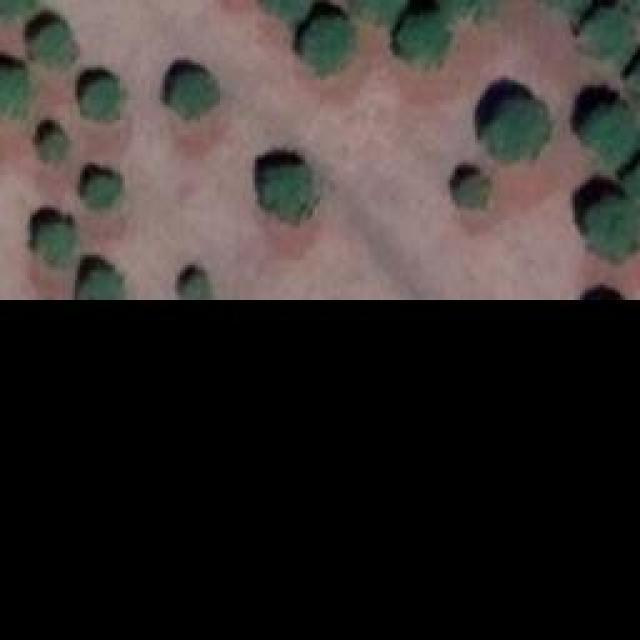Tree: (485, 100, 548, 160), (588, 198, 638, 261), (583, 10, 638, 65), (303, 18, 356, 73), (585, 108, 633, 163), (263, 168, 313, 218), (400, 15, 450, 63), (173, 73, 218, 116), (35, 23, 75, 66), (85, 80, 120, 120), (0, 68, 28, 118), (38, 225, 73, 263), (77, 273, 125, 298), (355, 0, 405, 22), (85, 178, 118, 208), (458, 175, 488, 208), (40, 135, 68, 163), (270, 0, 308, 20), (178, 278, 213, 298)
